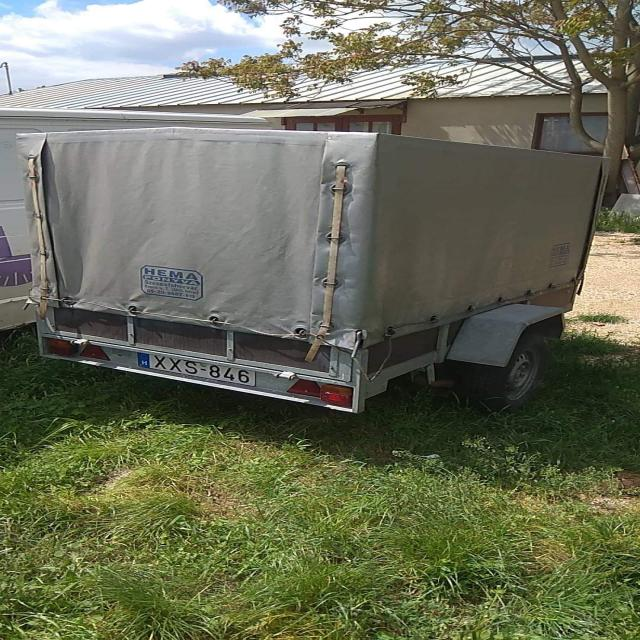trailer: (15, 126, 613, 414)
